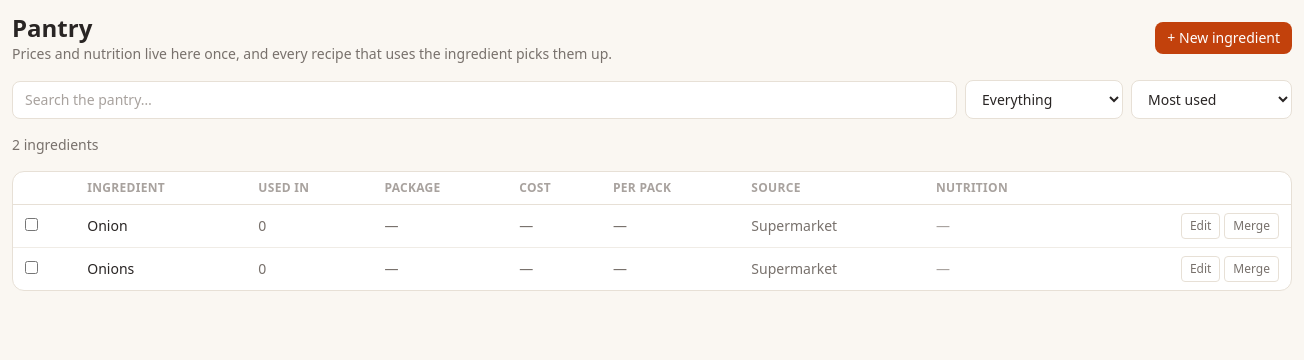
it: PantryPage multi-merge (flag on) › selecting two items shows a "Keep this" merge button on each
What coordinates should you click on to do the following:
click the checkbox named "Select Onion for merging"
I would click on:
 (32, 224)
Its box is [25,218,38,231].
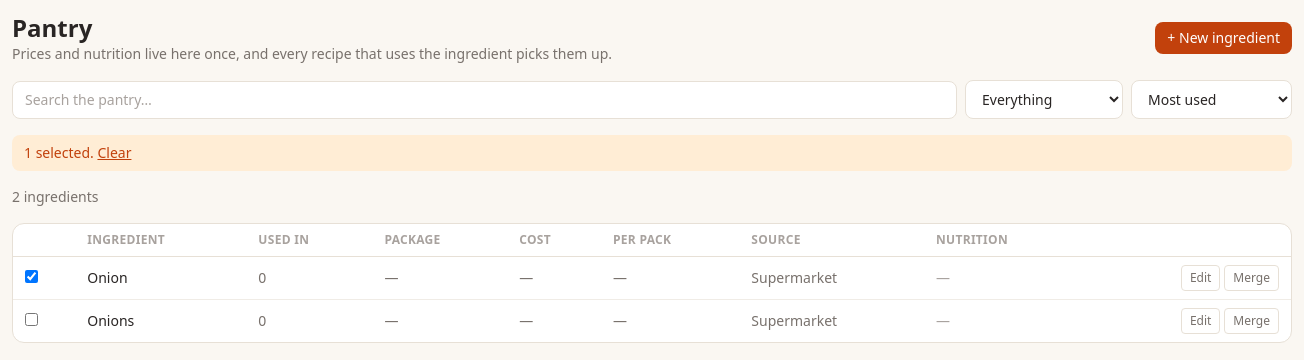
What coordinates should you click on to do the following:
click the checkbox named "Select Onions for merging"
I would click on:
 (32, 320)
Its box is [25,313,38,326].
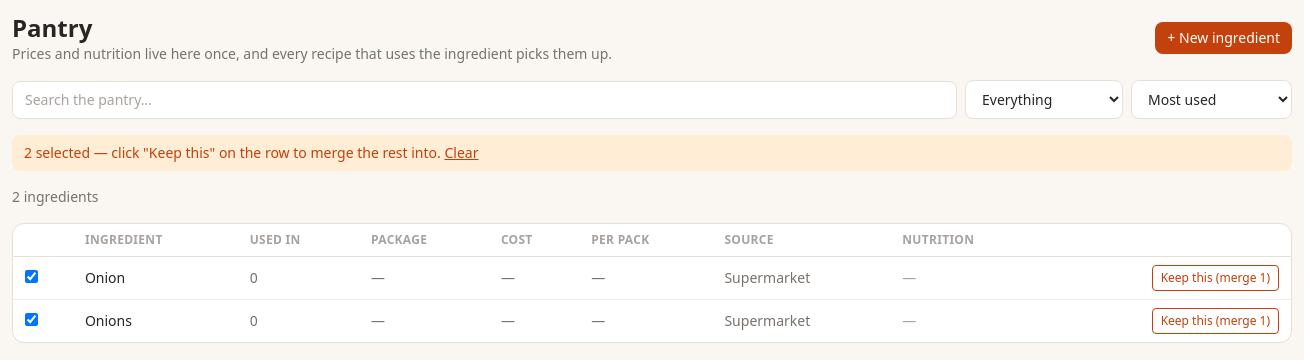
Check: the number of buttons "Keep this (merge 1)" is 2, box [1152,265,1279,291]; [1152,308,1279,334]
Check: the text "2 selected" is shown, box [12,135,1292,171]
